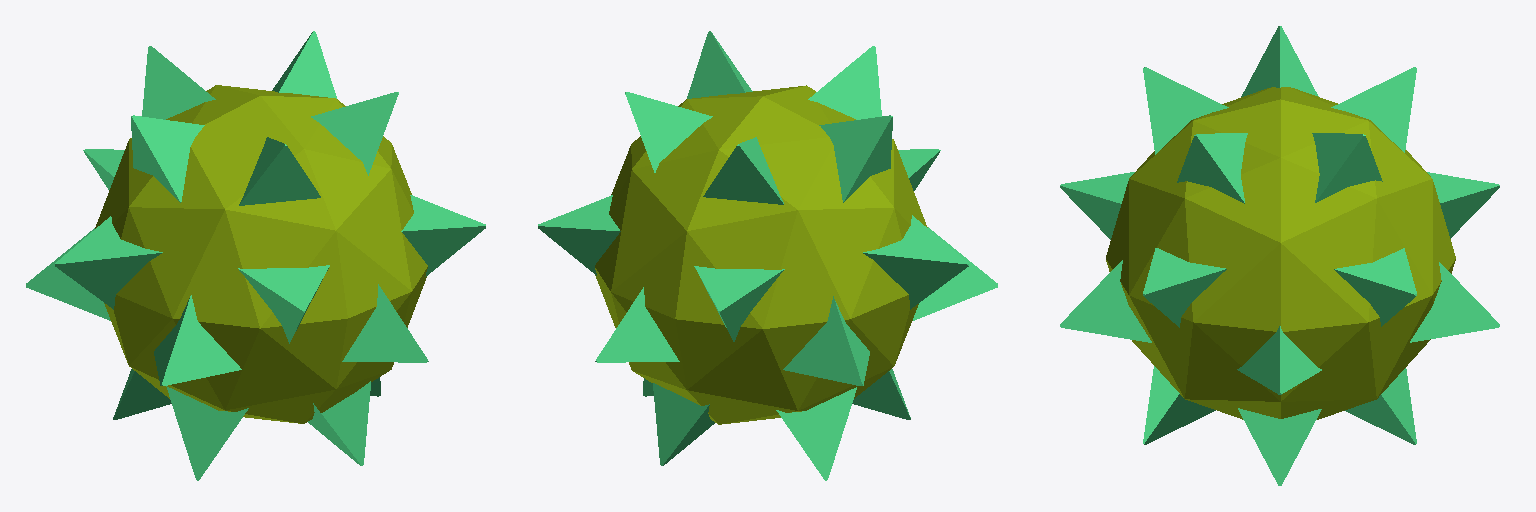
Rendered from qiu.obj.
The picture shows the model from 3 angles: view 1: azimuth 30°, elevation 25°; view 2: azimuth 150°, elevation 25°; view 3: azimuth 270°, elevation 25°; orthographic projection.
Visible parts, largest first — view 1: GeoSphere02, GeoSphere01; view 2: GeoSphere02, GeoSphere01; view 3: GeoSphere02, GeoSphere01.
Boxes of the visible parts, <box> form: GeoSphere02: <box>95,85,427,423</box>; GeoSphere01: <box>26,31,485,480</box>; GeoSphere02: <box>595,85,927,424</box>; GeoSphere01: <box>538,31,997,480</box>; GeoSphere02: <box>1106,87,1455,419</box>; GeoSphere01: <box>1060,26,1499,485</box>.
Bounding box in the file's own units: 126 × 103 × 120.